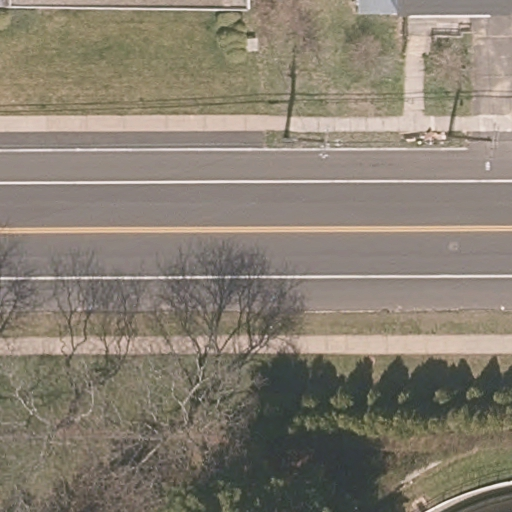DT: (315, 134, 344, 158)
